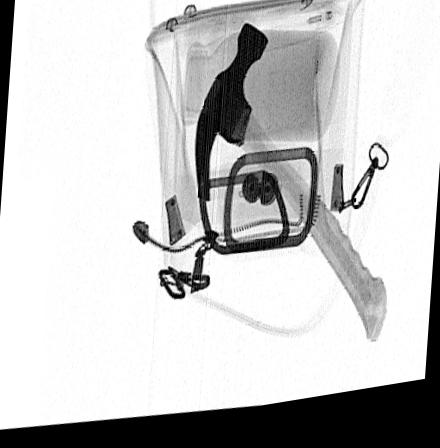Hammer: (193, 30, 387, 354)
